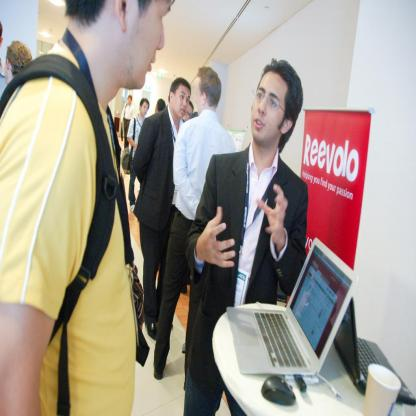board: (226, 232, 359, 407), (334, 298, 414, 405), (362, 365, 400, 416)
